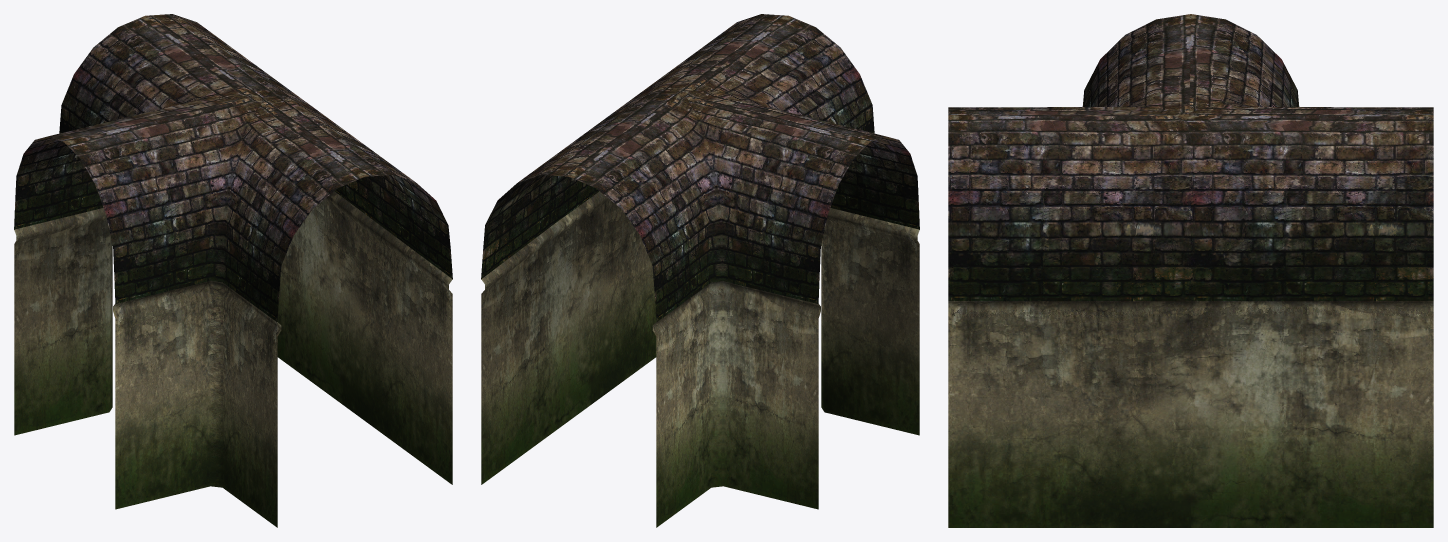
Rendered from wall_tunnel_high_T.DAE.
3 renders of one model, left to right at view 1: azimuth 30°, elevation 25°; view 2: azimuth 150°, elevation 25°; view 3: azimuth 270°, elevation 25°, orthographic. The views are drawn at different scales.
Visible parts, largest first — view 1: tunnel_high_T_walls, tunnel_high_T_ceiling; view 2: tunnel_high_T_walls, tunnel_high_T_ceiling; view 3: tunnel_high_T_walls, tunnel_high_T_ceiling.
Boxes of the visible parts, left/top/right/bottom form: tunnel_high_T_walls: left=14, top=191, right=452, bottom=527; tunnel_high_T_ceiling: left=14, top=14, right=452, bottom=321; tunnel_high_T_walls: left=481, top=191, right=919, bottom=527; tunnel_high_T_ceiling: left=481, top=14, right=919, bottom=321; tunnel_high_T_walls: left=948, top=301, right=1433, bottom=527; tunnel_high_T_ceiling: left=948, top=14, right=1433, bottom=301.
Size of the model in its own units: 2.92 by 4 by 3.31.
